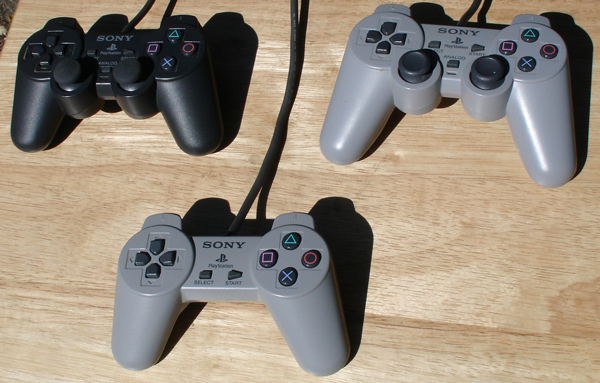controller: (318, 4, 579, 188), (110, 212, 353, 376), (8, 17, 226, 156)
